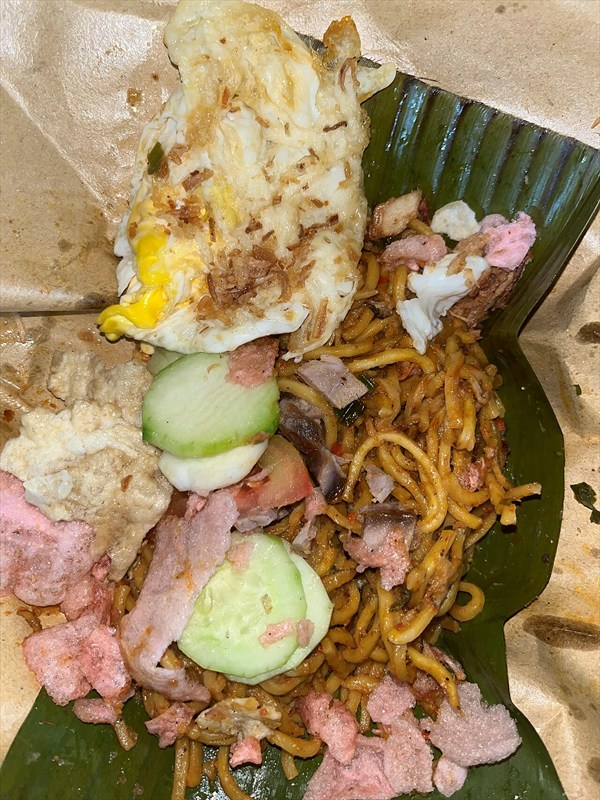Mie Goreng: (110, 159, 546, 755)
